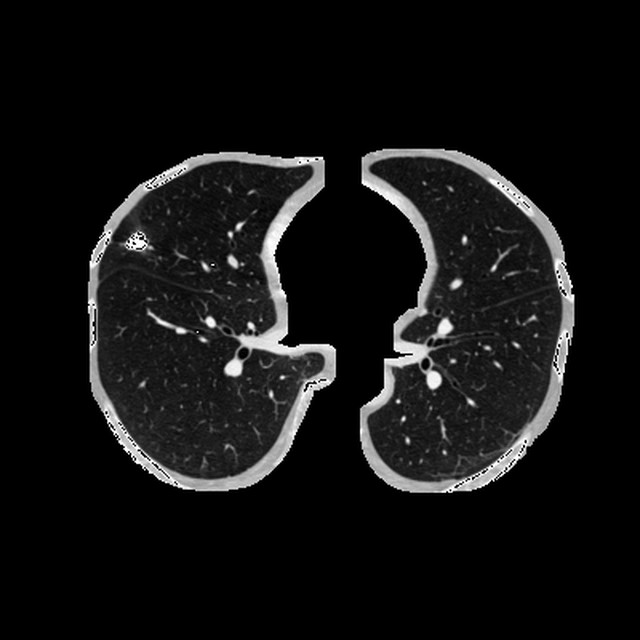PN: (126, 232, 146, 251)
